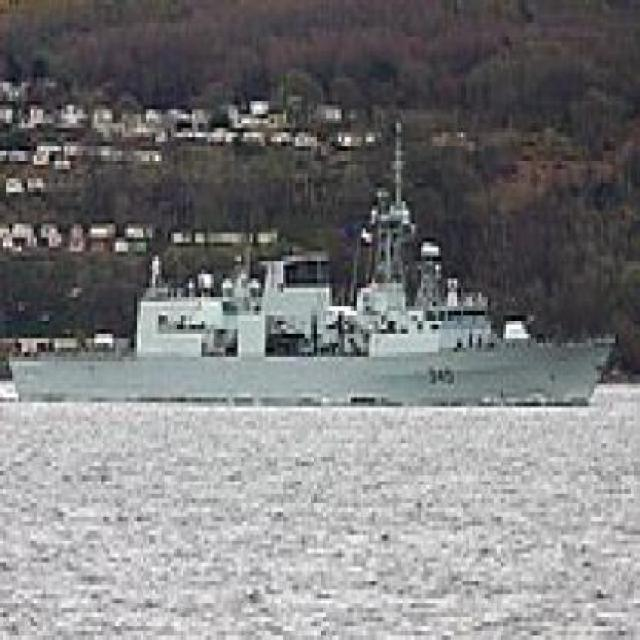warship2: (4, 143, 616, 430)
